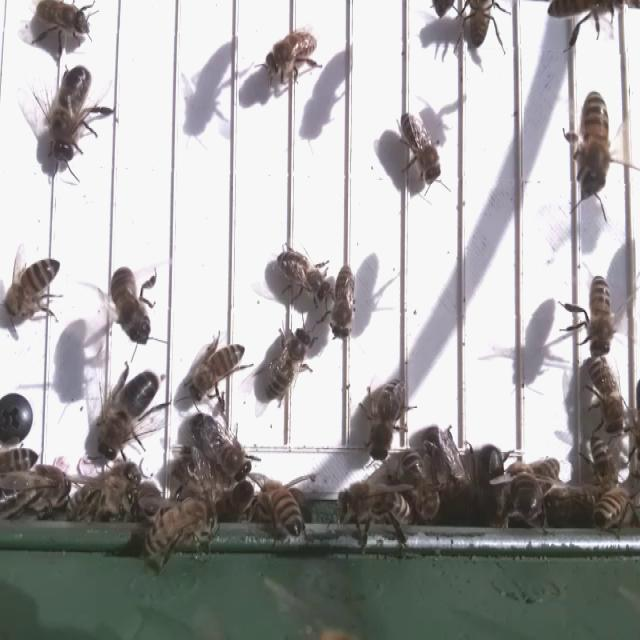Drone: (93, 366, 163, 466), (46, 62, 94, 174)
Worker: (186, 413, 254, 487), (0, 253, 63, 324), (583, 351, 630, 438), (577, 87, 611, 207), (270, 246, 332, 310), (187, 339, 250, 401), (256, 26, 322, 84), (111, 264, 154, 350), (398, 113, 446, 190), (362, 378, 405, 462), (264, 331, 312, 404), (586, 270, 615, 366), (331, 265, 358, 343)
